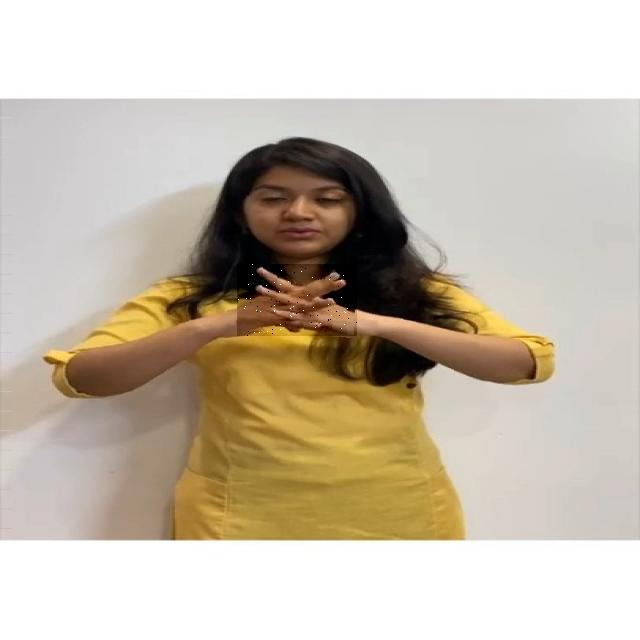W: (237, 264, 357, 336)
